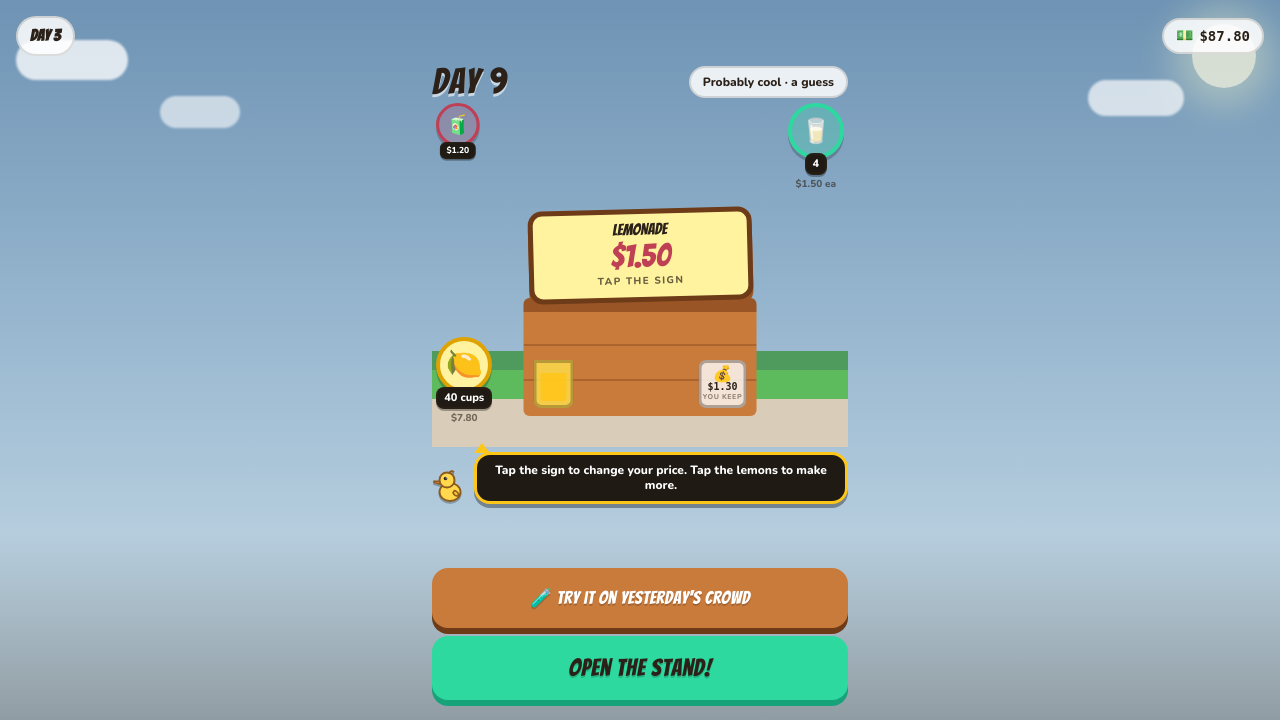
Test: the panels behind the stand › opens the regulars board once somebody is on the round
Click the button with aria-label "Your regulars".
click(816, 148)  # box [788,104,844,192]
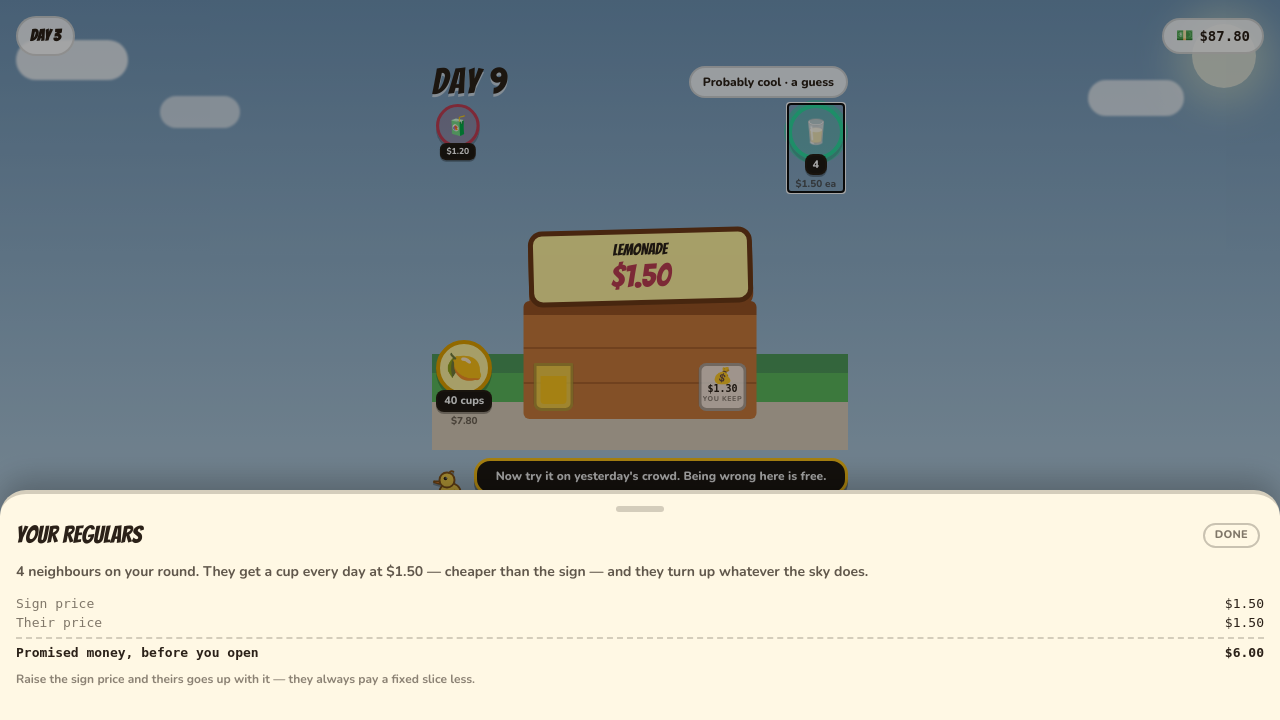
Now the text "on your round" is shown, box [101,562,382,581]
Now the text "cheaper than the sign" is shown, box [423,562,868,581]
